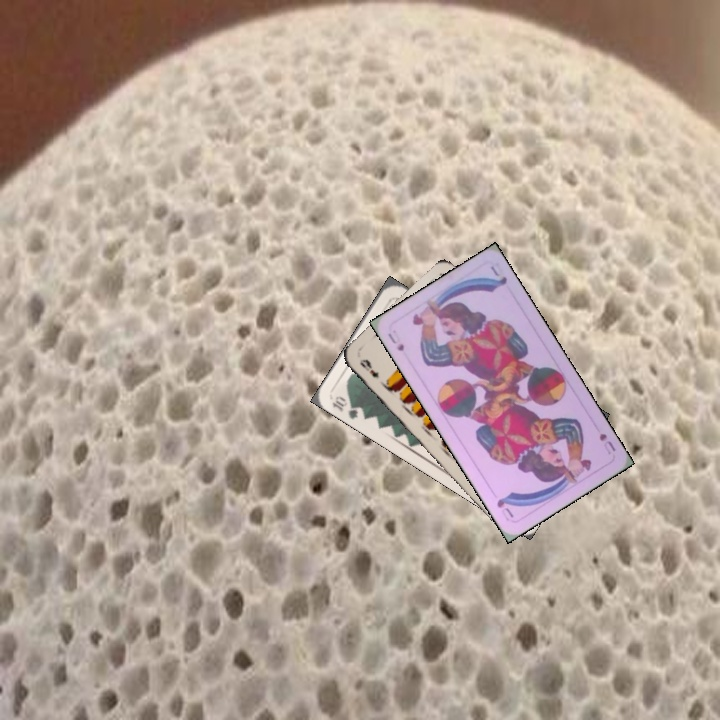E9: (356, 355, 382, 380)
G10: (328, 392, 361, 422)
SU: (595, 429, 619, 457), (384, 329, 407, 354)
